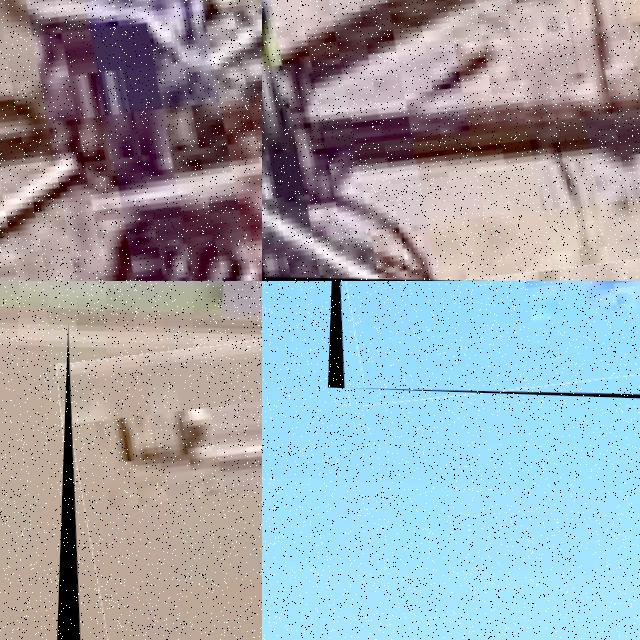drone: (262, 0, 640, 281), (0, 0, 262, 281), (54, 322, 262, 640), (327, 281, 640, 405)
